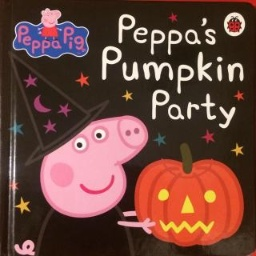Peppa: (13, 114, 157, 254)
